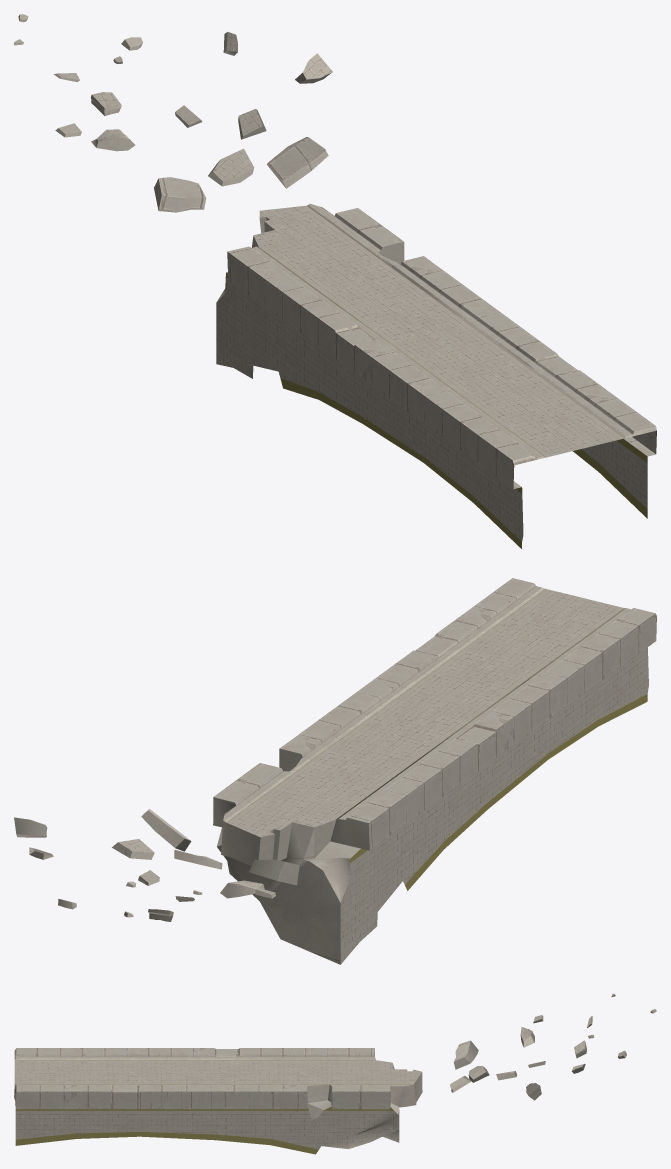
The model's file is mod_modular_ground01.fbx.
3 views of the same model, one above another, from view 1: azimuth 30°, elevation 25°; view 2: azimuth 150°, elevation 25°; view 3: azimuth 270°, elevation 25° (orthographic). The views are drawn at different scales.
Parts seen in each view (by area): view 1: mod_modular_ground01; view 2: mod_modular_ground01; view 3: mod_modular_ground01.
Boxes of the visible parts, x1,y1,x2,y2 form: mod_modular_ground01: (14,14,656,548); mod_modular_ground01: (14,578,656,964); mod_modular_ground01: (14,993,656,1154).
Bounding box in the file's own units: 17.47 × 12.91 × 58.27.
